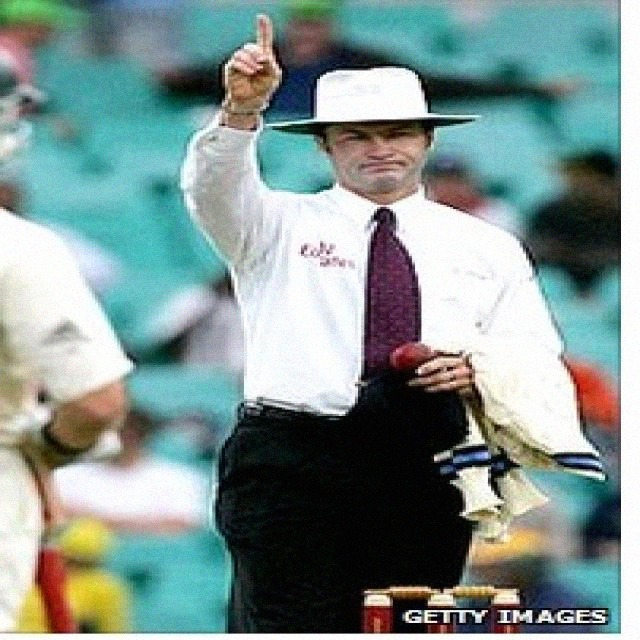Out: (178, 6, 593, 640)
